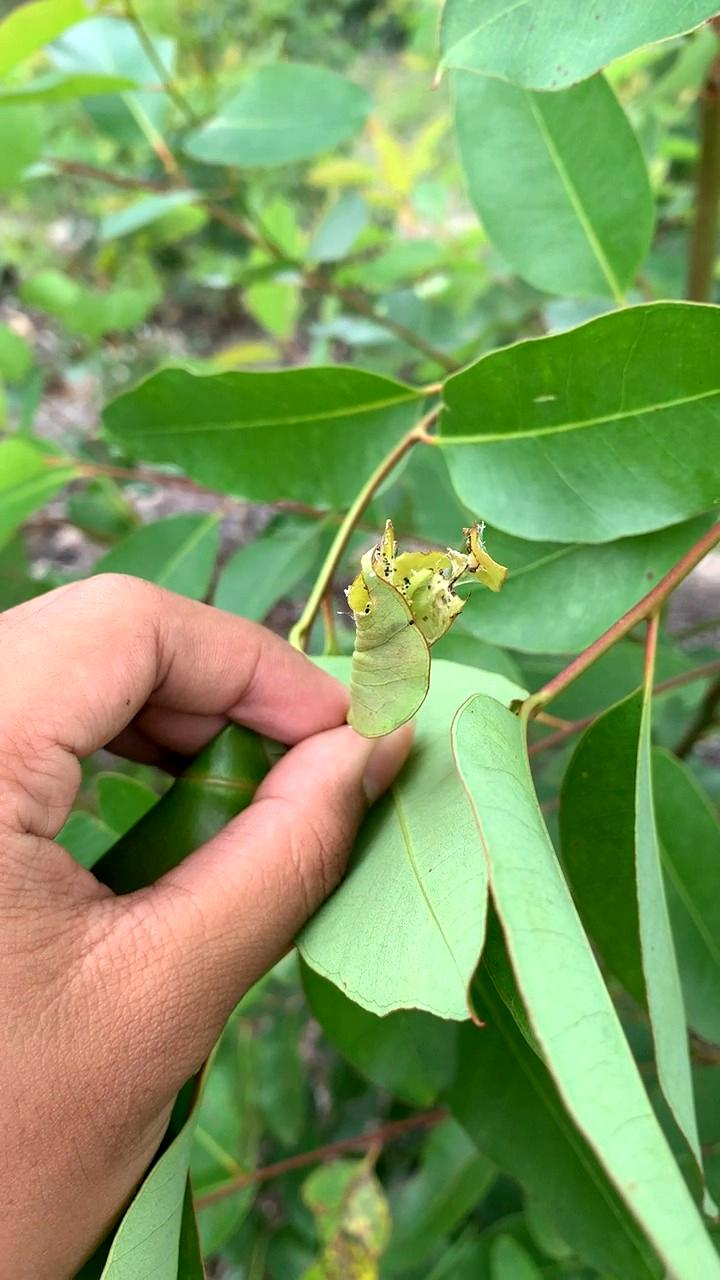Leaf Roller - Leaf: (325, 511, 507, 761)
